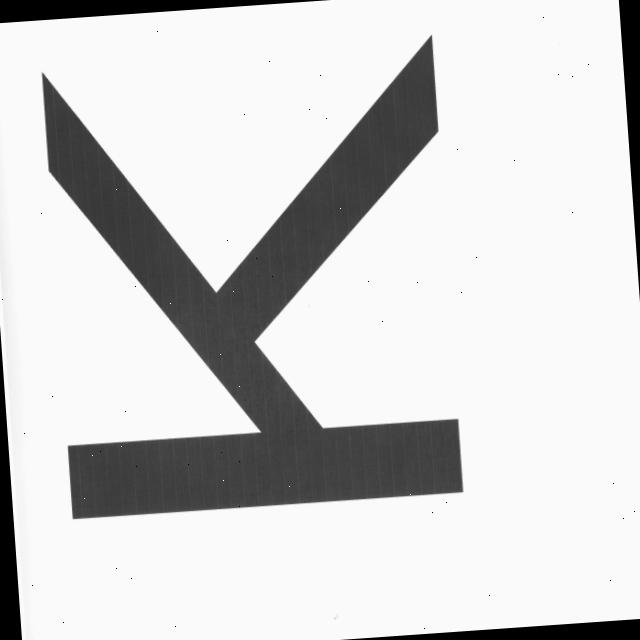k: (14, 0, 484, 543)
